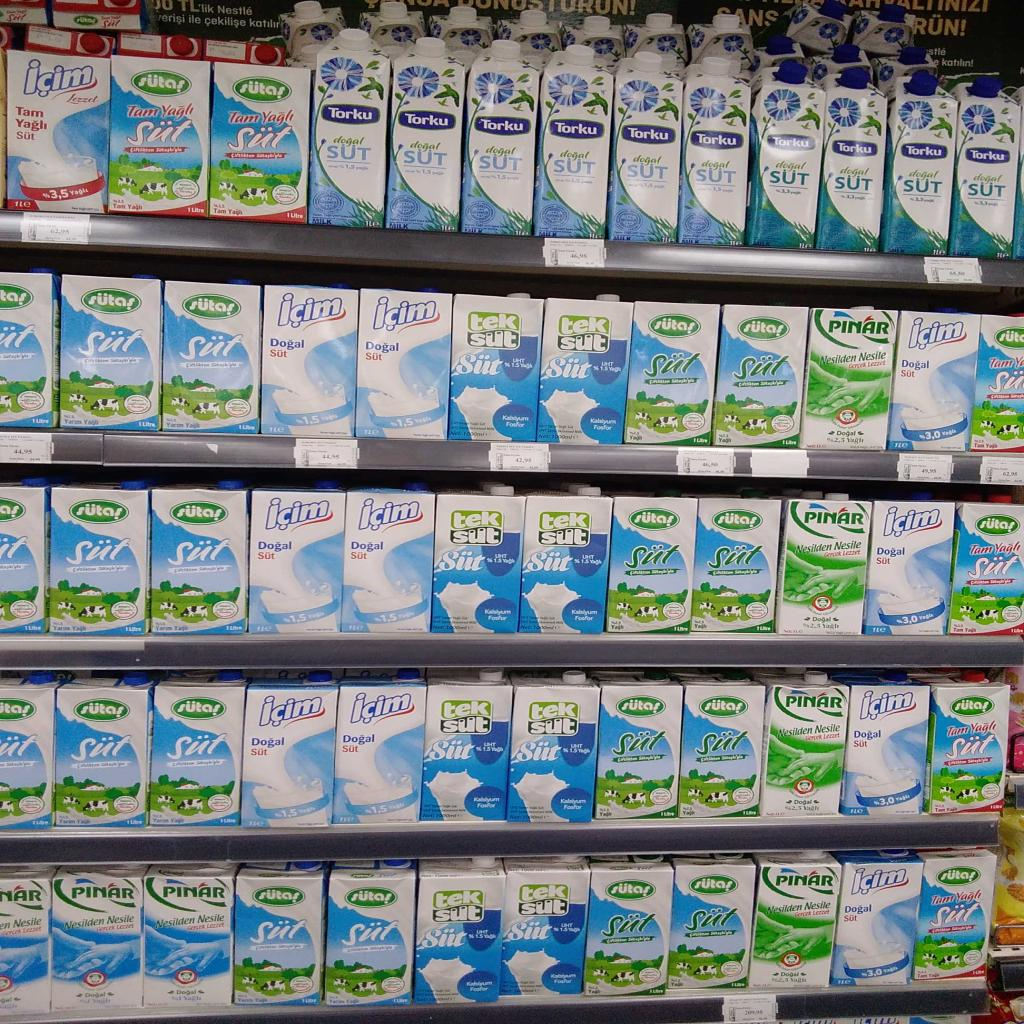price_tag: (23, 212, 89, 244), (294, 438, 359, 469), (544, 239, 605, 268), (750, 449, 809, 478), (489, 443, 549, 471), (0, 432, 52, 463), (898, 453, 951, 483), (723, 994, 777, 1023), (924, 257, 981, 284), (677, 449, 734, 476), (980, 456, 1023, 485)
product: (6, 51, 110, 213), (108, 55, 210, 217), (209, 64, 310, 222), (59, 276, 162, 430), (310, 30, 390, 227), (47, 481, 149, 635), (147, 671, 246, 826), (161, 281, 261, 434), (241, 673, 339, 828), (386, 39, 465, 231), (461, 41, 539, 235), (534, 45, 612, 238), (55, 675, 154, 826), (261, 286, 359, 437), (150, 484, 248, 634), (355, 289, 452, 439), (249, 482, 345, 633), (333, 670, 426, 823), (607, 53, 682, 242), (747, 64, 824, 248), (538, 295, 633, 444), (51, 864, 147, 1011), (448, 294, 543, 442), (507, 670, 599, 822), (340, 485, 435, 632), (802, 306, 898, 450), (882, 73, 957, 256), (677, 57, 750, 245), (625, 302, 720, 446), (713, 305, 809, 447), (421, 670, 511, 821), (432, 488, 525, 633), (776, 496, 872, 635), (413, 858, 505, 1003), (325, 865, 416, 1009), (231, 867, 324, 1007), (888, 310, 980, 451), (519, 494, 612, 633), (840, 673, 930, 816), (816, 68, 886, 251), (144, 865, 233, 1008), (500, 857, 590, 998), (950, 77, 1020, 258), (606, 495, 697, 633), (749, 851, 840, 987), (830, 852, 922, 986), (583, 861, 673, 997), (863, 501, 954, 635), (691, 497, 781, 632), (595, 680, 682, 819), (678, 677, 764, 817), (924, 673, 1009, 814), (762, 680, 848, 817), (668, 856, 755, 990), (913, 850, 996, 980), (950, 496, 1023, 634), (0, 672, 60, 829), (0, 271, 59, 429), (0, 866, 54, 1016), (0, 478, 50, 634), (971, 314, 1023, 452), (507, 950, 558, 982), (226, 915, 228, 919), (37, 360, 39, 361), (271, 929, 275, 929)
